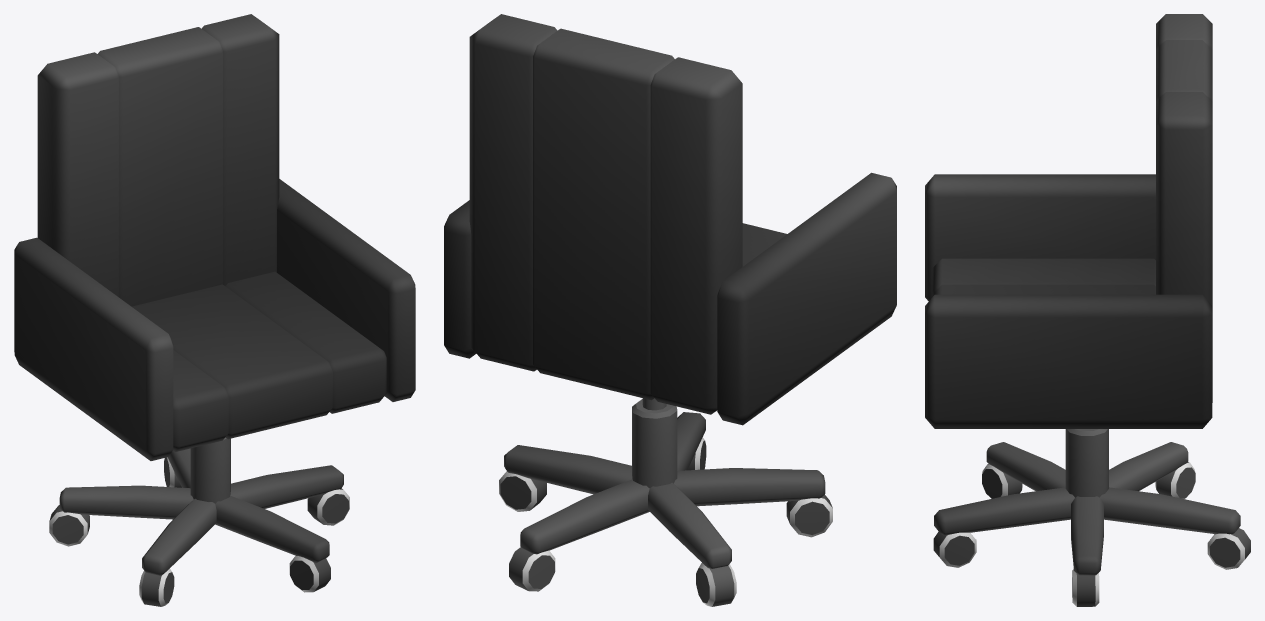
File: Chair_49.fbx
The picture shows the model from 3 angles, left to right: view 1: azimuth 30°, elevation 25°; view 2: azimuth 150°, elevation 25°; view 3: azimuth 270°, elevation 25°; orthographic projection. The views are drawn at different scales.
Visible parts, largest first — view 1: Chair_49, Chair_49 Tire_4, Chair_49 Tire_1, Chair_49 Tire_2, Chair_49 Tire_5; view 2: Chair_49, Chair_49 Tire_3, Chair_49 Tire_5, Chair_49 Tire_4, Chair_49 Tire_2; view 3: Chair_49, Chair_49 Tire_3, Chair_49 Tire_1, Chair_49 Tire_4, Chair_49 Tire_5, Chair_49 Tire_2.
Part boxes in pixels (x1,y1,x2,y2): Chair_49: (14, 14, 415, 575); Chair_49 Tire_4: (49, 505, 89, 546); Chair_49 Tire_1: (289, 555, 330, 592); Chair_49 Tire_2: (307, 488, 349, 525); Chair_49 Tire_5: (139, 568, 174, 606); Chair_49: (444, 14, 896, 568); Chair_49 Tire_3: (509, 547, 555, 591); Chair_49 Tire_5: (786, 494, 832, 537); Chair_49 Tire_4: (696, 563, 736, 606); Chair_49 Tire_2: (499, 471, 546, 511); Chair_49: (925, 14, 1240, 575); Chair_49 Tire_3: (1207, 528, 1250, 569); Chair_49 Tire_1: (933, 531, 976, 567); Chair_49 Tire_4: (1155, 462, 1195, 498); Chair_49 Tire_5: (982, 463, 1022, 498); Chair_49 Tire_2: (1072, 569, 1099, 606).
Bounding box in the file's own units: 0.7652 × 1.26 × 0.7735.
